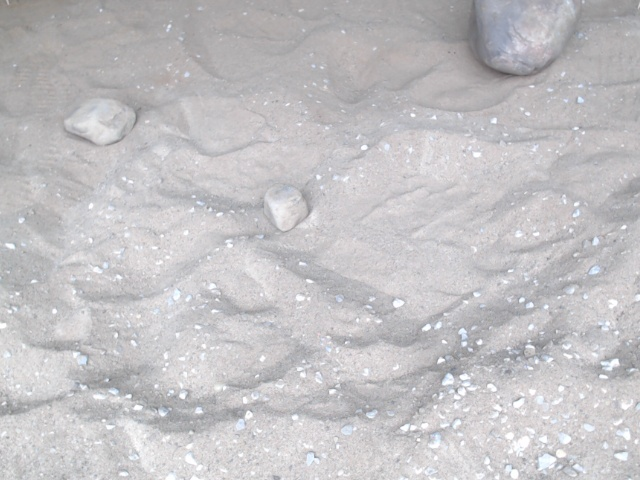rock: (463, 1, 588, 84), (59, 93, 141, 151), (259, 180, 311, 237)
